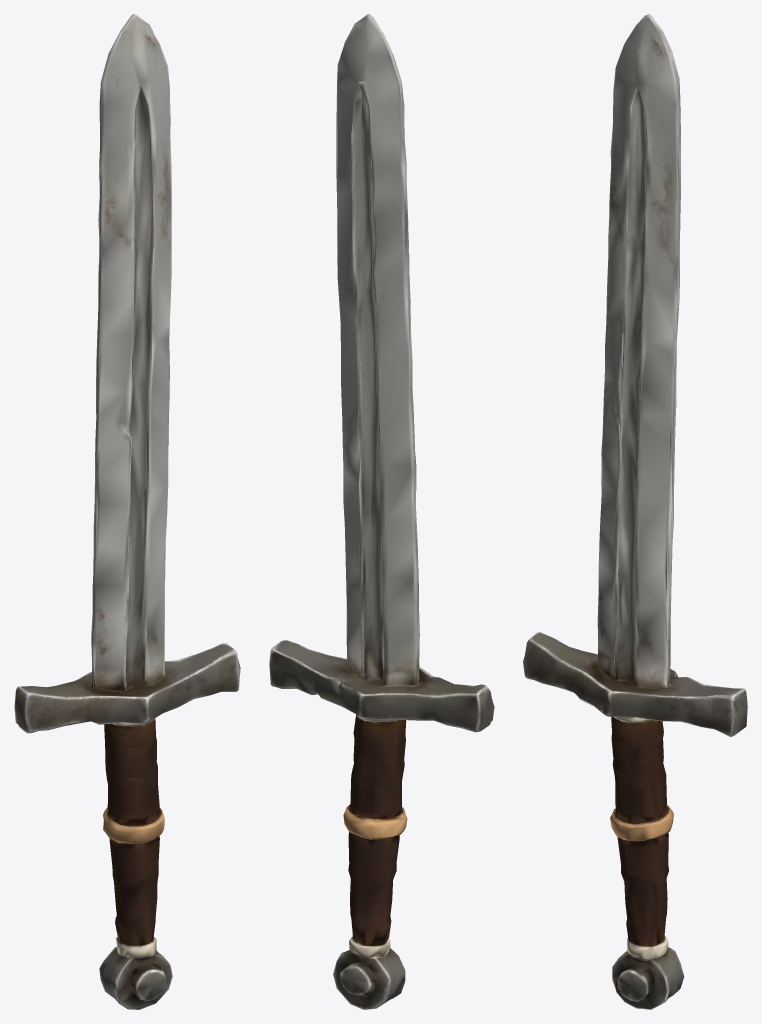
File: greatsword.glb
The picture shows the model from 3 angles, left to right: view 1: azimuth 30°, elevation 25°; view 2: azimuth 150°, elevation 25°; view 3: azimuth 330°, elevation 25°; orthographic projection.
Visible parts, largest first — view 1: weapon; view 2: weapon; view 3: weapon.
Boxes of the visible parts, x1,y1,x2,y2 form: weapon: (14, 14, 240, 1009); weapon: (269, 14, 494, 1009); weapon: (523, 14, 747, 1009).
Size of the model in its own units: 0.2283 by 1 by 0.0843.
1 material, 1 textured.
